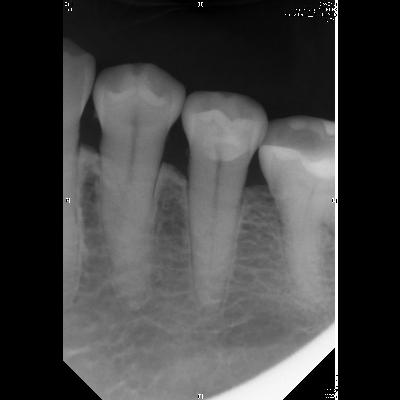tooth: (89, 61, 186, 315), (180, 88, 268, 318)
